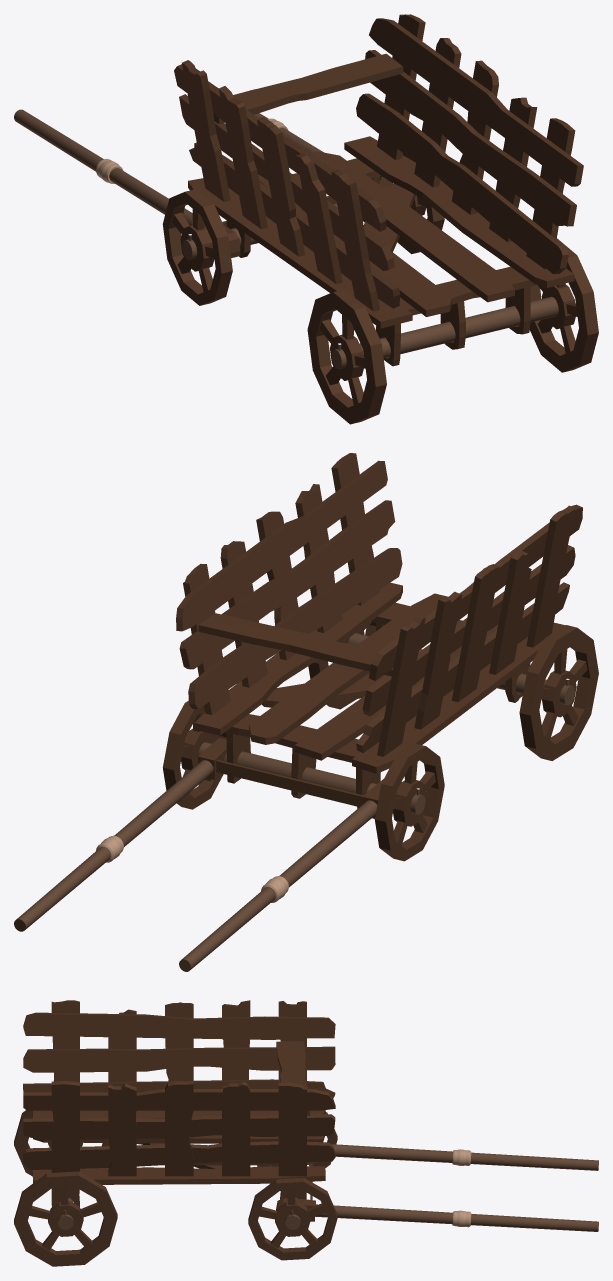
The model's file is Cart.glb.
3 renders of one model, top to bottom at view 1: azimuth 30°, elevation 25°; view 2: azimuth 150°, elevation 25°; view 3: azimuth 270°, elevation 25°, orthographic. The views are drawn at different scales.
Visible parts, largest first — view 1: Cart; view 2: Cart; view 3: Cart.
Part boxes in pixels (x1,y1,x2,y2): Cart: (14, 14, 598, 424); Cart: (14, 453, 598, 971); Cart: (14, 1000, 598, 1266).
Size of the model in its own units: 0.072 by 0.0716 by 0.2061.
